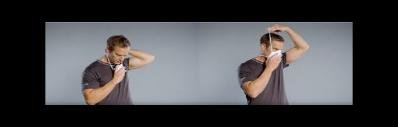mask_weared_incorrect: (113, 49, 128, 68)
with_mask: (268, 43, 284, 58)
